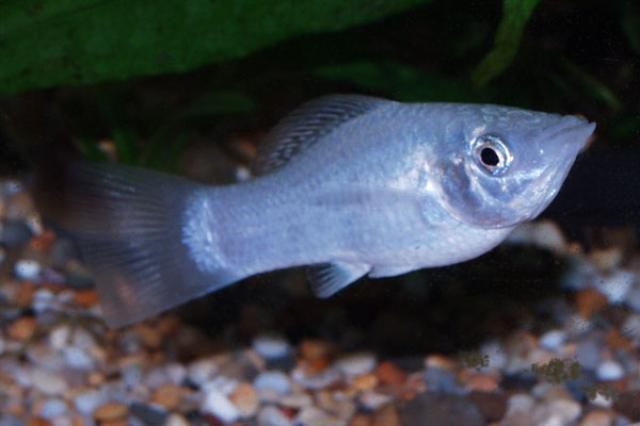Mulut: (532, 92, 616, 188)
Sirip Anal: (294, 249, 376, 304)
Sirip Ekor: (48, 147, 235, 351)
Sirip Punggung: (244, 79, 394, 209)
